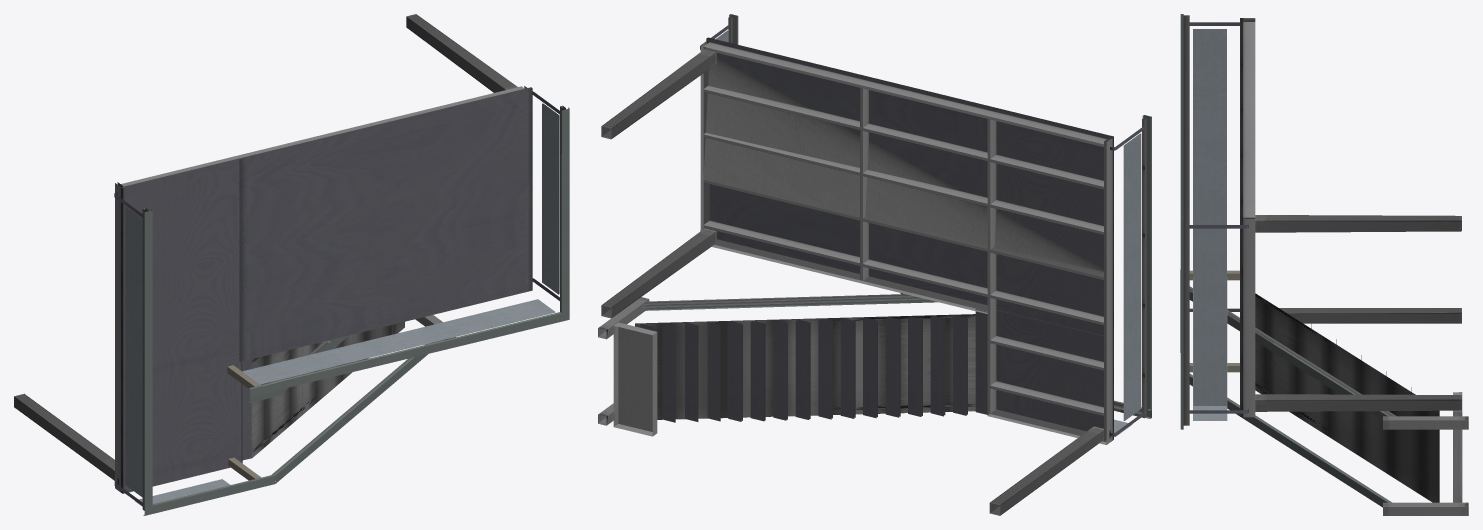
File: nt_2020_house_02_balcony_LOD2.obj
3 renders of one model, left to right at view 1: azimuth 30°, elevation 25°; view 2: azimuth 150°, elevation 25°; view 3: azimuth 270°, elevation 25°, orthographic.
Visible parts, largest first — view 1: mtl_nt_2020_house_02_balcony, glass_clear_mp; view 2: mtl_nt_2020_house_02_balcony, glass_clear_mp; view 3: mtl_nt_2020_house_02_balcony, glass_clear_mp.
Boxes of the visible parts, x1,y1,x2,y2 form: mtl_nt_2020_house_02_balcony: (14, 14, 569, 515); glass_clear_mp: (125, 103, 559, 506); mtl_nt_2020_house_02_balcony: (598, 14, 1151, 515); glass_clear_mp: (716, 30, 1141, 436); mtl_nt_2020_house_02_balcony: (1180, 14, 1468, 515); glass_clear_mp: (1193, 29, 1227, 420).
Size of the model in its own units: 792 by 550 by 468.
